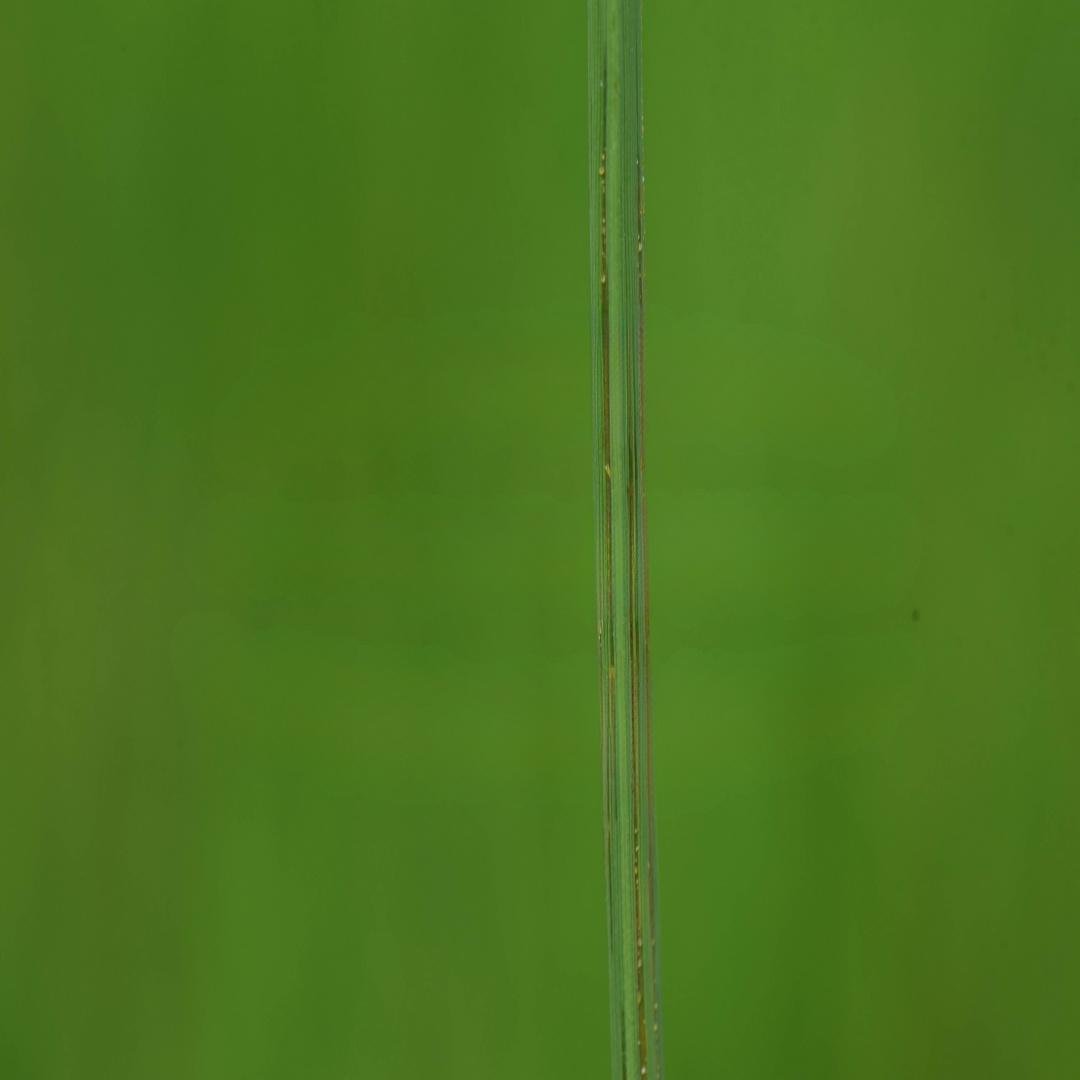BLS: (637, 129, 659, 1078), (599, 55, 618, 822), (628, 419, 647, 1078), (621, 1006, 627, 1078)
LEAF: (587, 0, 662, 1079)
